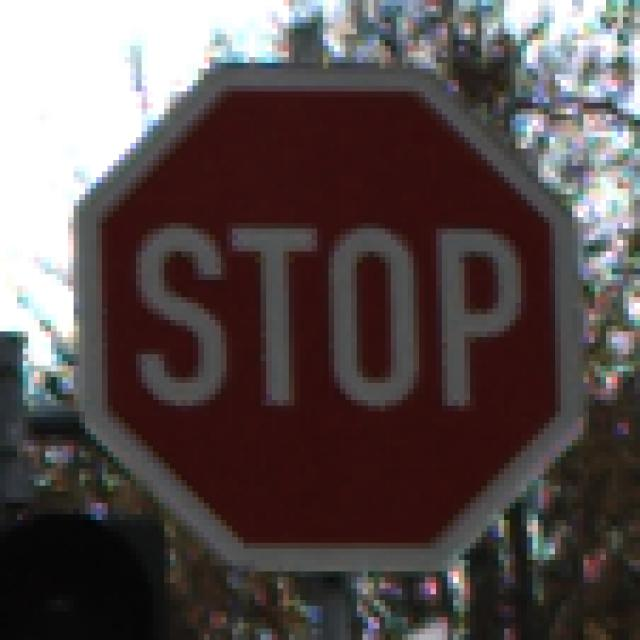STOP: (58, 52, 590, 584)
